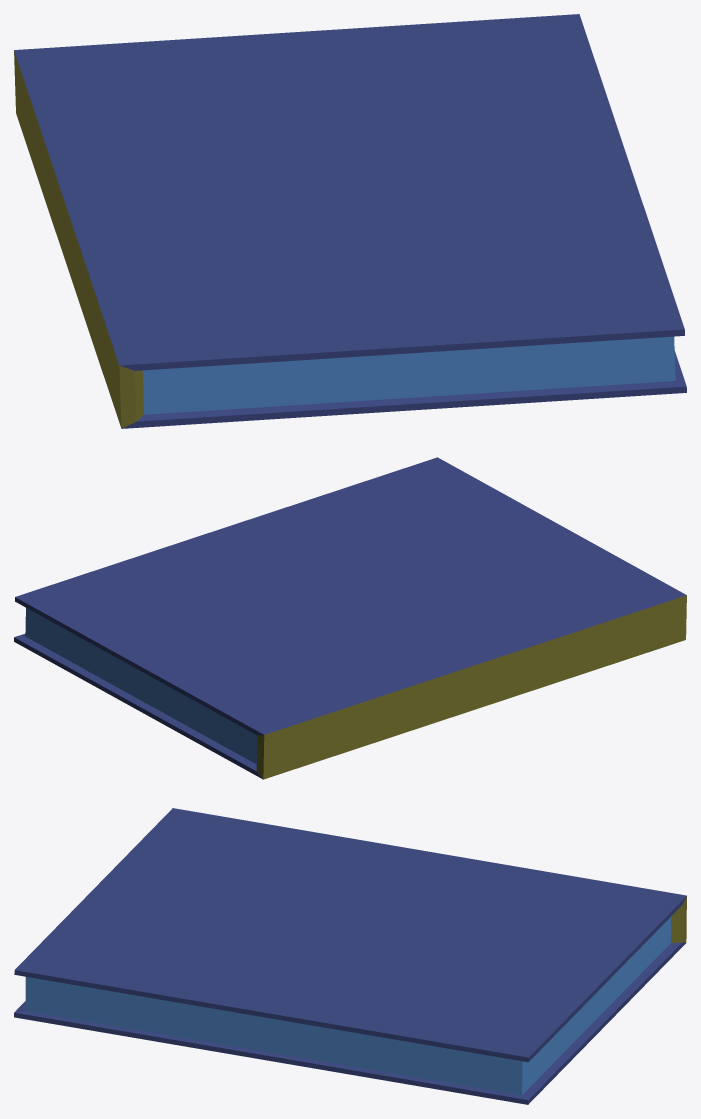
Rendered from Office2_Books3.fbx.
3 views of the same model, one above another, from view 1: azimuth 30°, elevation 25°; view 2: azimuth 150°, elevation 25°; view 3: azimuth 270°, elevation 25° (orthographic). The views are drawn at different scales.
Parts seen in each view (by area): view 1: Office2_Books3; view 2: Office2_Books3; view 3: Office2_Books3.
Part boxes in pixels (<box>): Office2_Books3: <box>14,14,686,428</box>; Office2_Books3: <box>14,457,686,779</box>; Office2_Books3: <box>14,808,686,1104</box>.
Size of the model in its own units: 33.46 by 3.03 by 37.69.
